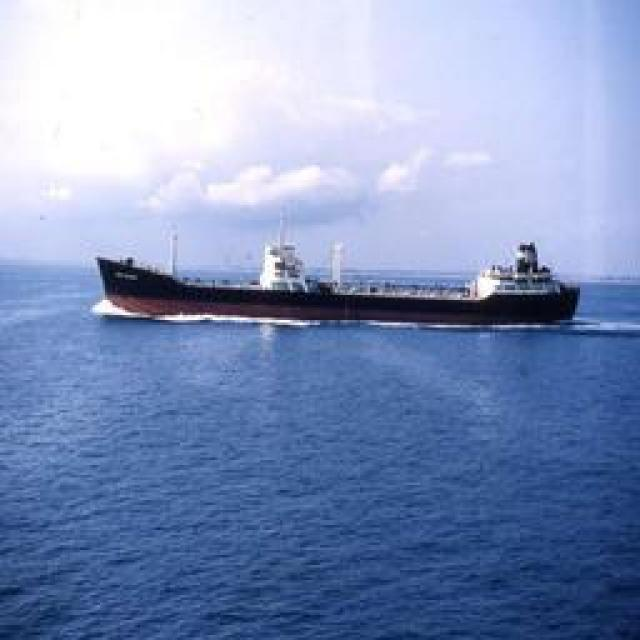ship2: (90, 225, 582, 331)
